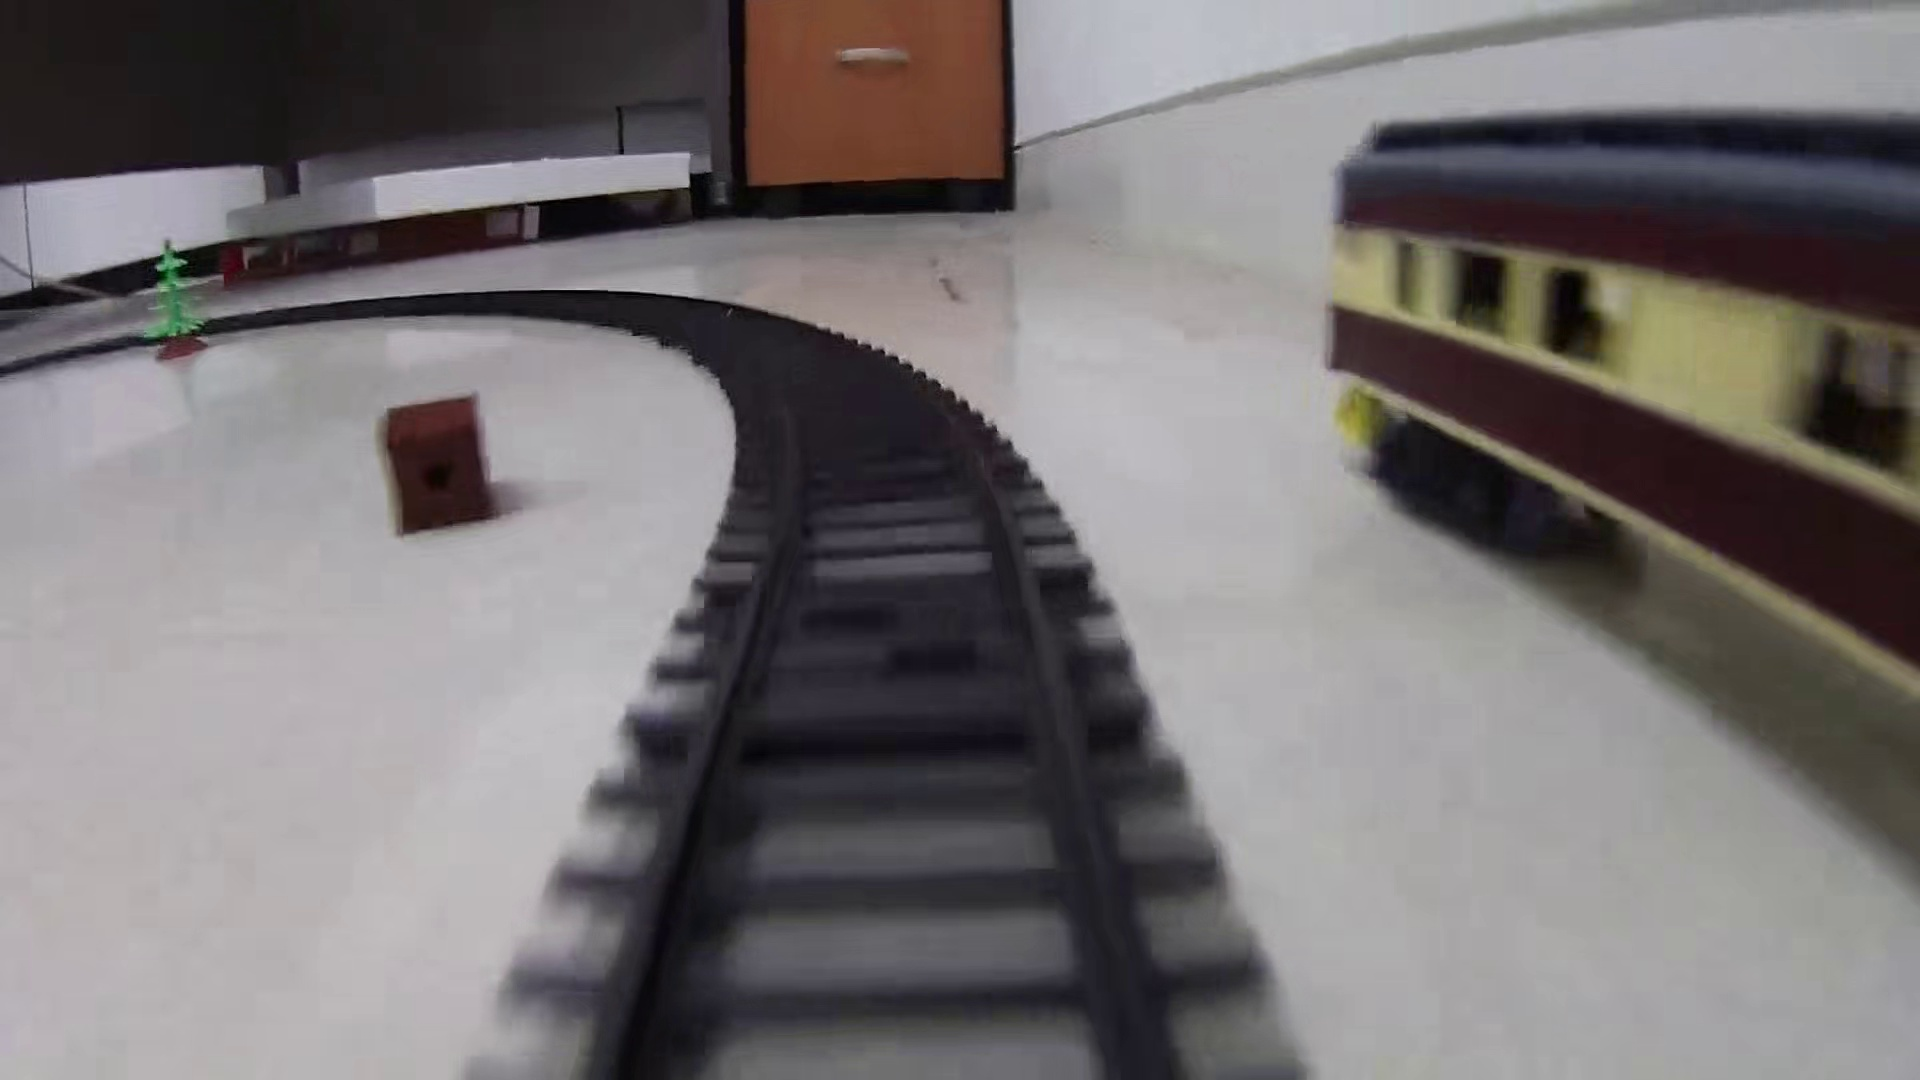box: (373, 393, 505, 542)
tree: (138, 231, 217, 364)
